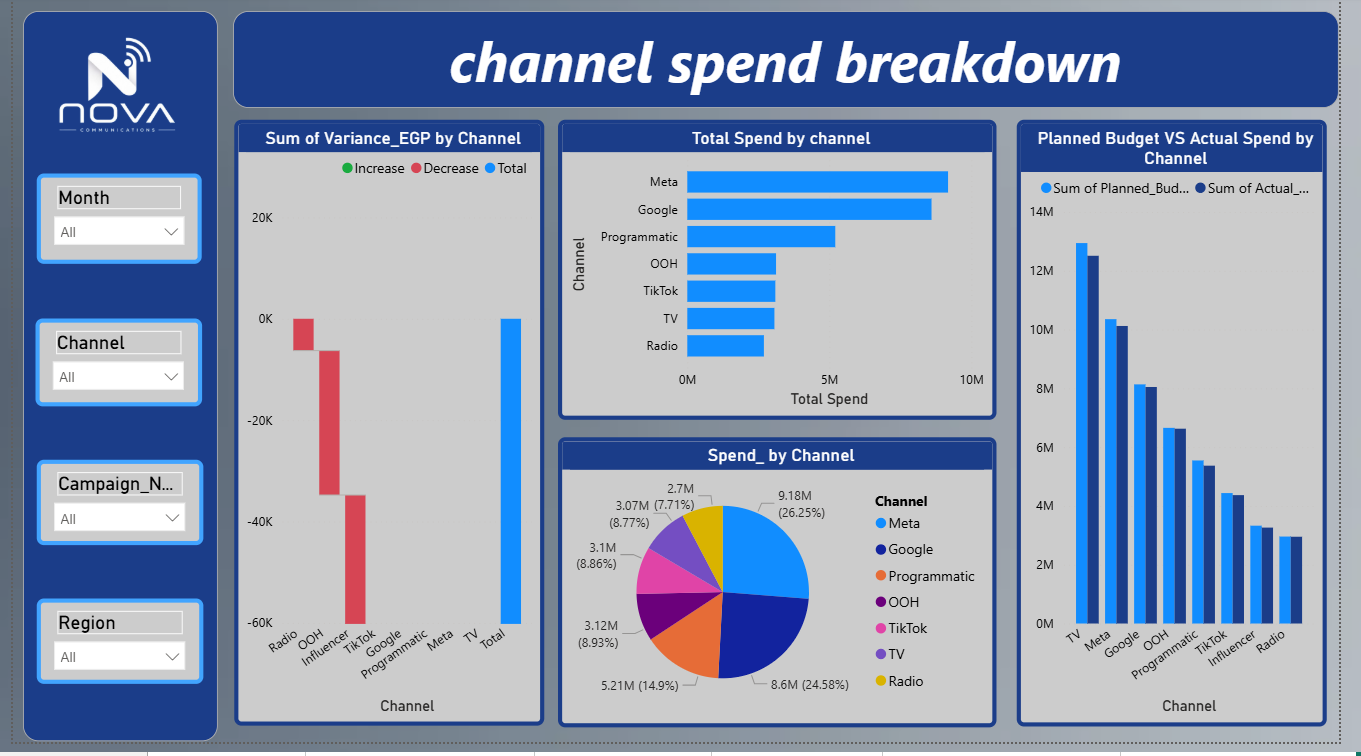

The dashboard page shown, as its layout file describes it:
{"tool":"powerbi","page":{"name":"channel spend breakdown","canvas":[1280,720],"ordinal":1},"visuals":[{"type":"textbox","title":"Pudget Overview","box":[212.9,13.9,1067.1,93.2],"z":0},{"type":"textbox","box":[9.7,14.5,188.2,704.6],"z":1000},{"type":"image","box":[0,13.9,201.7,148.9],"z":2000},{"type":"barChart","title":"Total Spend by channel","fields":{"Y":["Annual_Media_Spend.Total Spend"],"Category":["Daily_Channel_Performance.Channel"]},"box":[525.9,119.7,423,289.4],"z":3000},{"type":"pieChart","title":"Spend_ by Channel","fields":{"Category":["Daily_Channel_Performance.Channel"],"Y":["Sum(Daily_Channel_Performance.Spend_EGP)"]},"box":[525.9,425.7,423,279.7],"z":4000},{"type":"clusteredColumnChart","title":"Planned Budget VS  Actual Spend  by Channel","fields":{"Y":["Sum(Annual_Media_Spend.Planned_Budget_EGP)","Sum(Annual_Media_Spend.Actual_Spend_EGP)"],"Category":["Annual_Media_Spend.Channel"]},"box":[968.3,119.7,299.1,585.7],"z":5000},{"type":"waterfallChart","fields":{"Category":["Annual_Media_Spend.Channel"],"Y":["Sum(Annual_Media_Spend.Variance_EGP)"]},"box":[213.5,119.4,299.2,585.1],"z":6000},{"type":"slicer","fields":{"Values":["__Daily_Channel_Performance.Month"]},"box":[22.9,171.6,159.3,86.9],"z":7000},{"type":"slicer","fields":{"Values":["__Daily_Channel_Performance.Channel"]},"box":[21.7,310.7,160.5,84.5],"z":8000},{"type":"slicer","fields":{"Values":["___Campaigns.Campaign_Name"]},"box":[22.9,447.4,160.5,82],"z":9000},{"type":"slicer","fields":{"Values":["Regional_Performance.Region"]},"box":[22.9,581.7,160.5,82],"z":10000}]}

Visuals, with their boxes in screenshot pixels (x1, y1, x2, y2), scaled from the page's 1280x720 canvas onto the 1361x756 screenshot:
"Pudget Overview" textbox: 226,15,1360,112
textbox: 10,15,210,755
image: 0,15,214,171
"Total Spend by channel" barChart: 559,126,1009,430
"Spend_ by Channel" pieChart: 559,447,1009,741
"Planned Budget VS  Actual Spend  by Channel" clusteredColumnChart: 1030,126,1348,741
waterfallChart - Annual_Media_Spend.Channel x Sum(Annual_Media_Spend.Variance_EGP): 227,125,545,740
slicer - __Daily_Channel_Performance.Month: 24,180,194,271
slicer - __Daily_Channel_Performance.Channel: 23,326,194,415
slicer - ___Campaigns.Campaign_Name: 24,470,195,556
slicer - Regional_Performance.Region: 24,611,195,697
